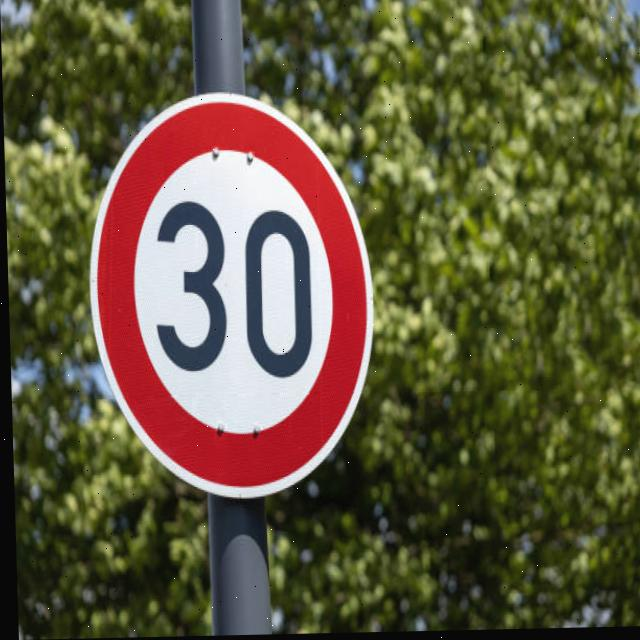Speed limit 30: (81, 87, 379, 505)
